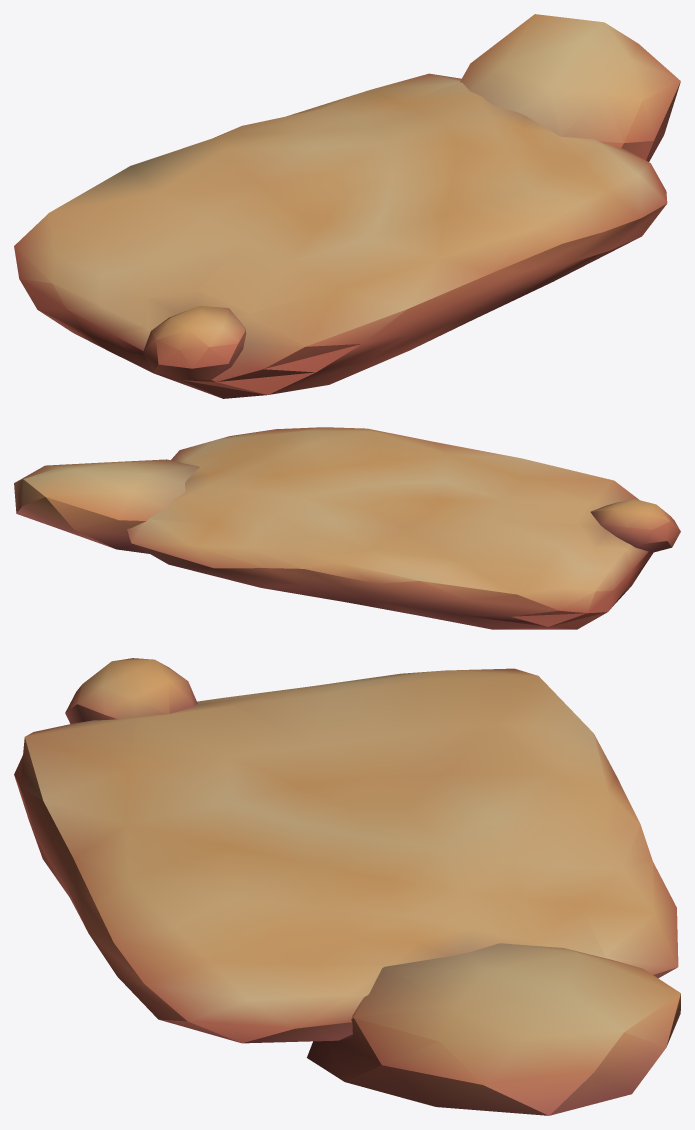
Rendered from amber_rock_slab_a.glb.
3 views of the same model, one above another, from view 1: azimuth 30°, elevation 25°; view 2: azimuth 150°, elevation 25°; view 3: azimuth 270°, elevation 25° (orthographic). The views are drawn at different scales.
Visible parts, largest first — view 1: amber_rock_slab_a; view 2: amber_rock_slab_a; view 3: amber_rock_slab_a.
Boxes of the visible parts, x1,y1,x2,y2 form: amber_rock_slab_a: (14,14,680,398); amber_rock_slab_a: (14,427,680,629); amber_rock_slab_a: (14,658,680,1115).
Size of the model in its own units: 5.99 by 0.8502 by 3.7.
